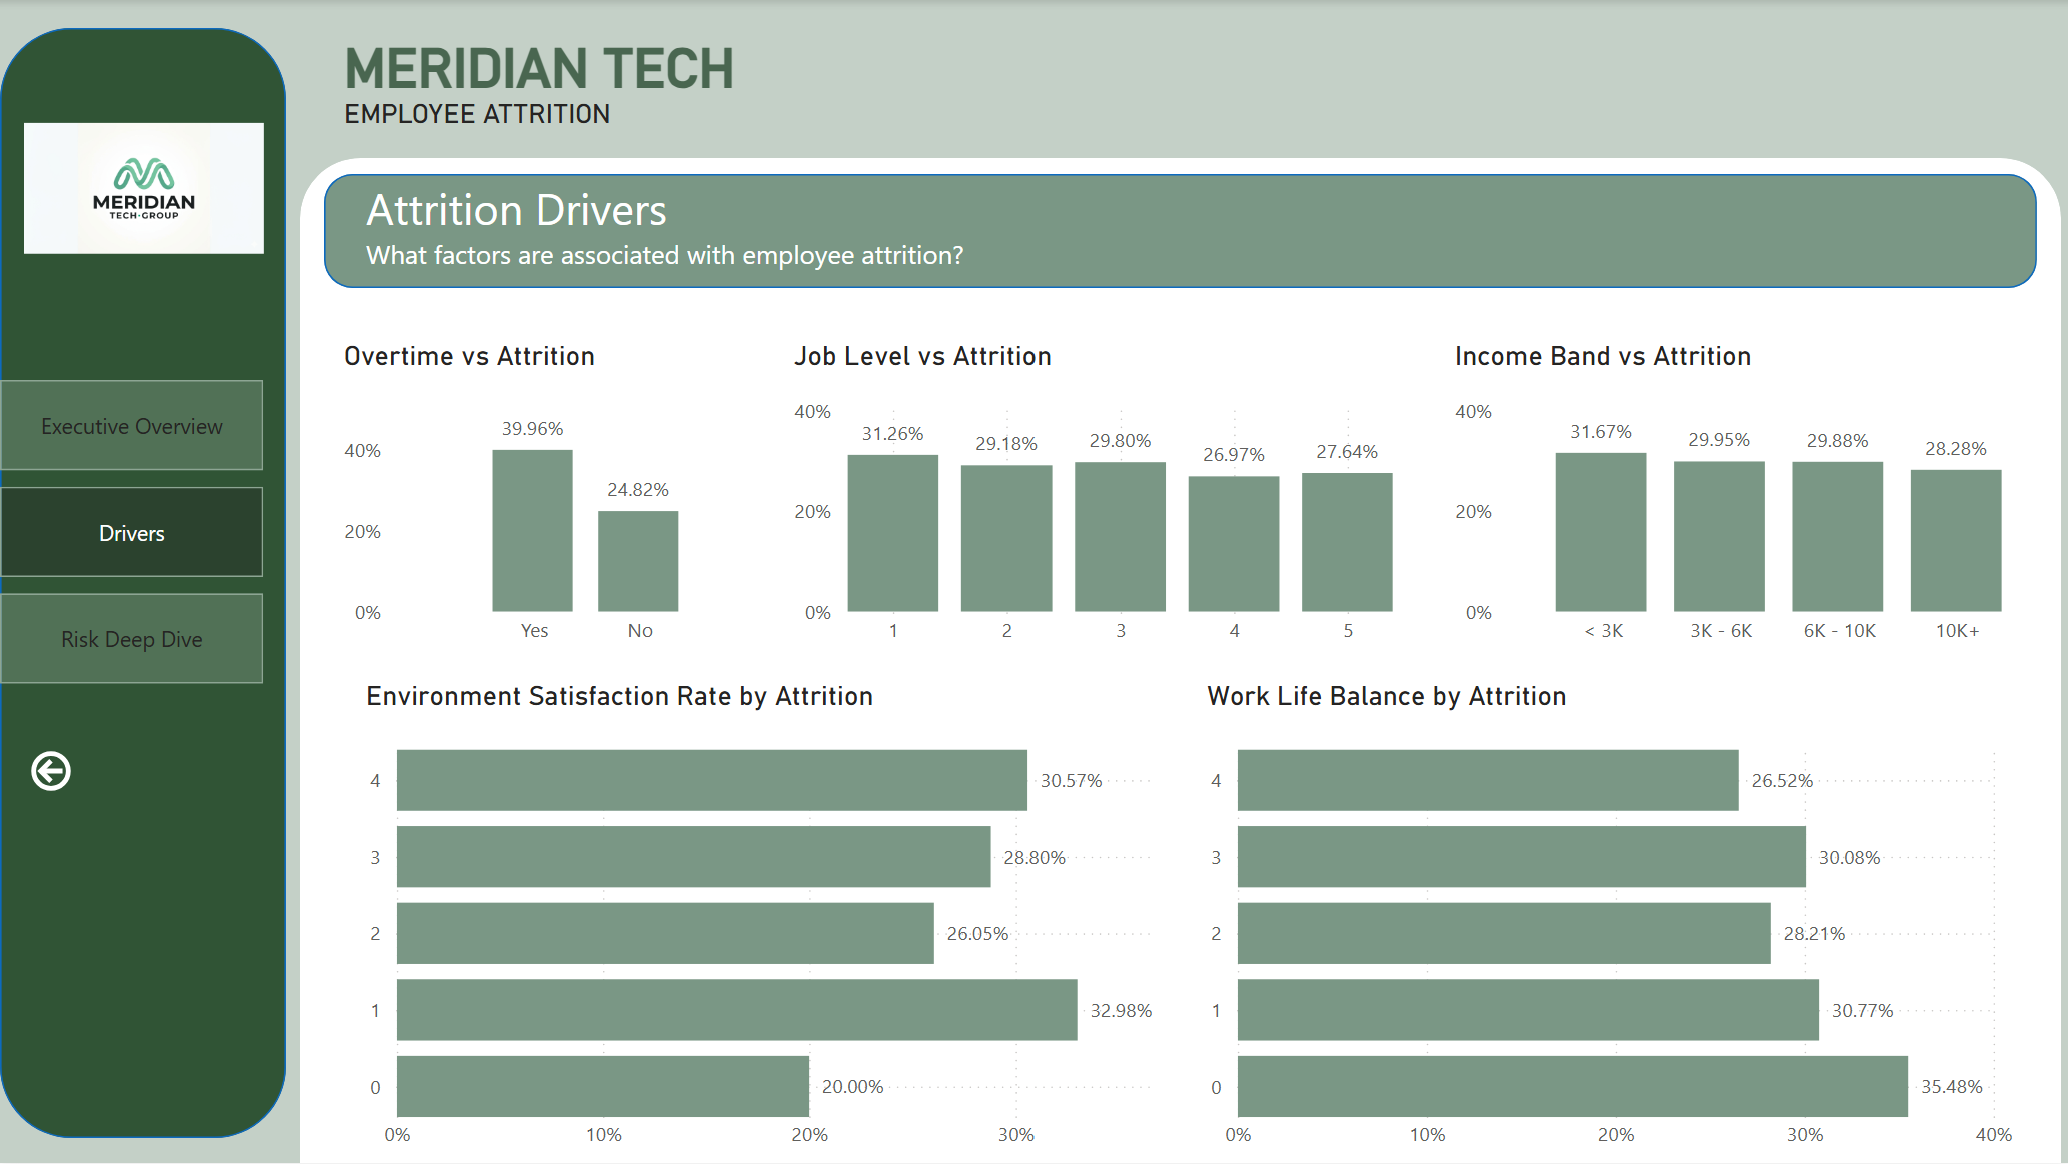

The dashboard page shown, as its layout file describes it:
{"tool":"powerbi","page":{"name":"Drivers","canvas":[1280,720],"ordinal":1},"visuals":[{"type":"shape","box":[0,17.3,177,687],"z":0},{"type":"image","box":[14.9,70.6,148.5,91.6],"z":1000},{"type":"pageNavigator","box":[0,235.2,163.4,190.6],"z":2000},{"type":"shape","box":[185.7,97.3,1089.4,622.7],"z":3000},{"type":"textbox","box":[208,17.3,261.2,70.6],"z":4000},{"type":"shape","box":[200.5,107.7,1059.7,70.6],"z":5000},{"type":"textbox","box":[221.6,105.2,429.6,73],"z":6000},{"type":"columnChart","title":"Overtime vs Attrition","fields":{"Y":["meridian_tech employee_attrition_clean.Attrition Rate"],"Category":["meridian_tech employee_attrition_clean.OverTime"]},"box":[208,210.4,278.5,198.1],"z":7000},{"type":"columnChart","title":"Job Level vs Attrition","fields":{"Y":["meridian_tech employee_attrition_clean.Attrition Rate"],"Category":["meridian_tech employee_attrition_clean.JobLevel"]},"box":[486.5,210.4,380,198.1],"z":8000},{"type":"columnChart","title":"Income Band vs Attrition","fields":{"Y":["meridian_tech employee_attrition_clean.Attrition Rate"],"Category":["meridian_tech employee_attrition_clean.Income Band"]},"box":[895,210.4,380,198.1],"z":9000},{"type":"clusteredBarChart","title":"Environment Satisfaction Rate by Attrition","fields":{"Category":["meridian_tech employee_attrition_clean.EnvironmentSatisfaction"],"Y":["meridian_tech employee_attrition_clean.Attrition Rate"]},"box":[221.6,420.9,508.8,299.6],"z":10000},{"type":"clusteredBarChart","title":"Work Life Balance by Attrition","fields":{"Y":["meridian_tech employee_attrition_clean.Attrition Rate"],"Category":["meridian_tech employee_attrition_clean.WorkLifeBalance"]},"box":[741.5,420.9,508.8,299.6],"z":11000},{"type":"actionButton","box":[14.9,460.5,35.9,33.4],"z":11001}]}

Visuals, with their boxes on the page's 1280x720 design canvas (x1, y1, x2, y2). These are canvas units, not pixel positions in the 2068x1164 screenshot, which may show the page scaled, cropped or inside an application window:
shape: box(0, 17, 177, 704)
image: box(15, 71, 163, 162)
pageNavigator: box(0, 235, 163, 426)
shape: box(186, 97, 1275, 720)
textbox: box(208, 17, 469, 88)
shape: box(200, 108, 1260, 178)
textbox: box(222, 105, 651, 178)
"Overtime vs Attrition" columnChart: box(208, 210, 486, 408)
"Job Level vs Attrition" columnChart: box(486, 210, 866, 408)
"Income Band vs Attrition" columnChart: box(895, 210, 1275, 408)
"Environment Satisfaction Rate by Attrition" clusteredBarChart: box(222, 421, 730, 720)
"Work Life Balance by Attrition" clusteredBarChart: box(742, 421, 1250, 720)
actionButton: box(15, 460, 51, 494)
